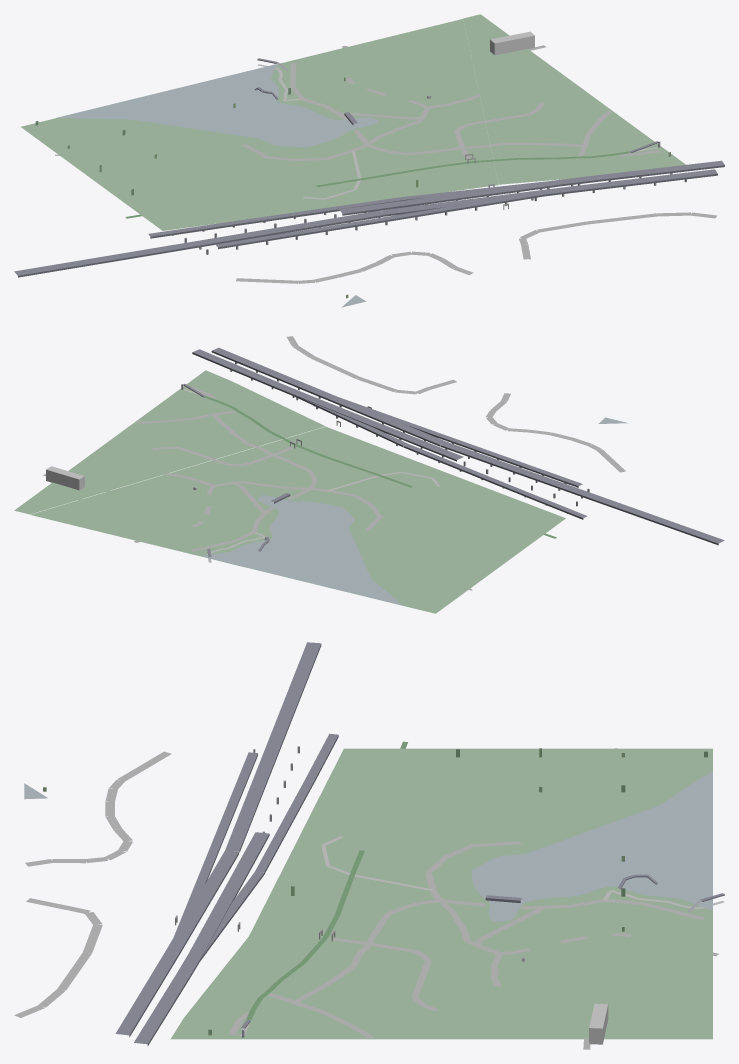
The picture shows the model from 3 angles, top to bottom: view 1: azimuth 30°, elevation 25°; view 2: azimuth 150°, elevation 25°; view 3: azimuth 270°, elevation 25°; orthographic projection. The views are drawn at different scales.
Bounding box in the file's own units: 698 × 13.89 × 516.
